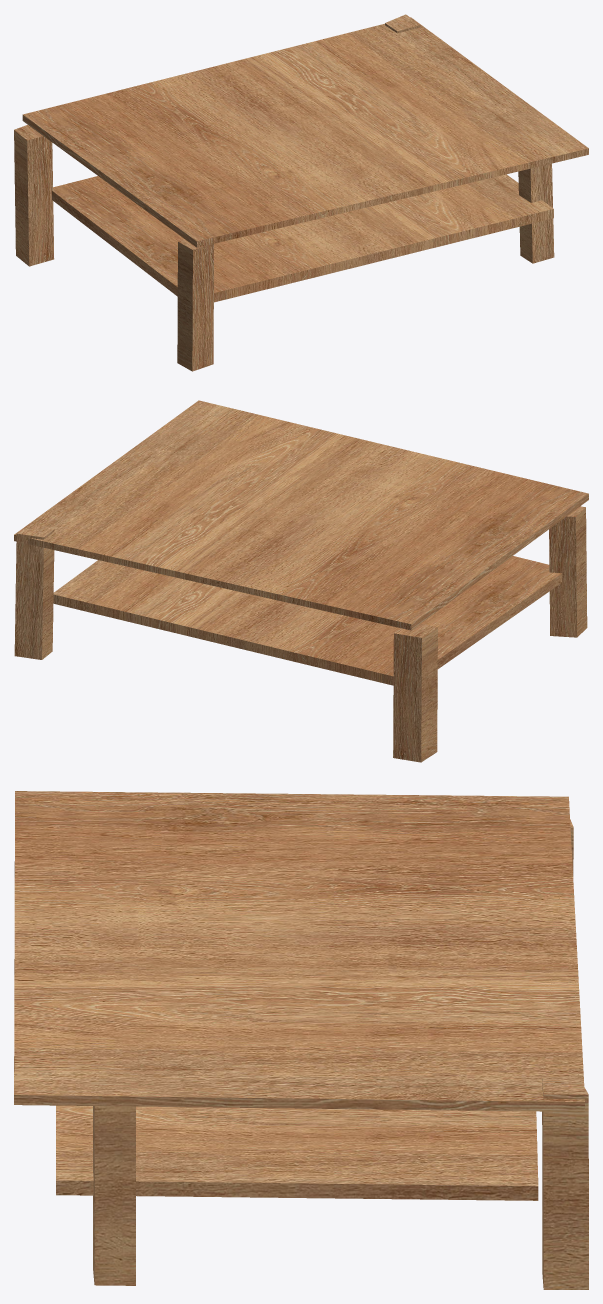
File: 20005_ours.glb
3 views of the same model, one above another, from view 1: azimuth 30°, elevation 25°; view 2: azimuth 150°, elevation 25°; view 3: azimuth 270°, elevation 25° (orthographic). The views are drawn at different scales.
Visible parts, largest first — view 1: ParentEmpty; view 2: ParentEmpty; view 3: ParentEmpty.
Part boxes in pixels (x1,y1,x2,y2): ParentEmpty: (14, 14, 588, 371); ParentEmpty: (14, 400, 588, 762); ParentEmpty: (14, 791, 588, 1289).
Bounding box in the file's own units: 1 × 0.332 × 0.7835.
1 material, 1 textured.
